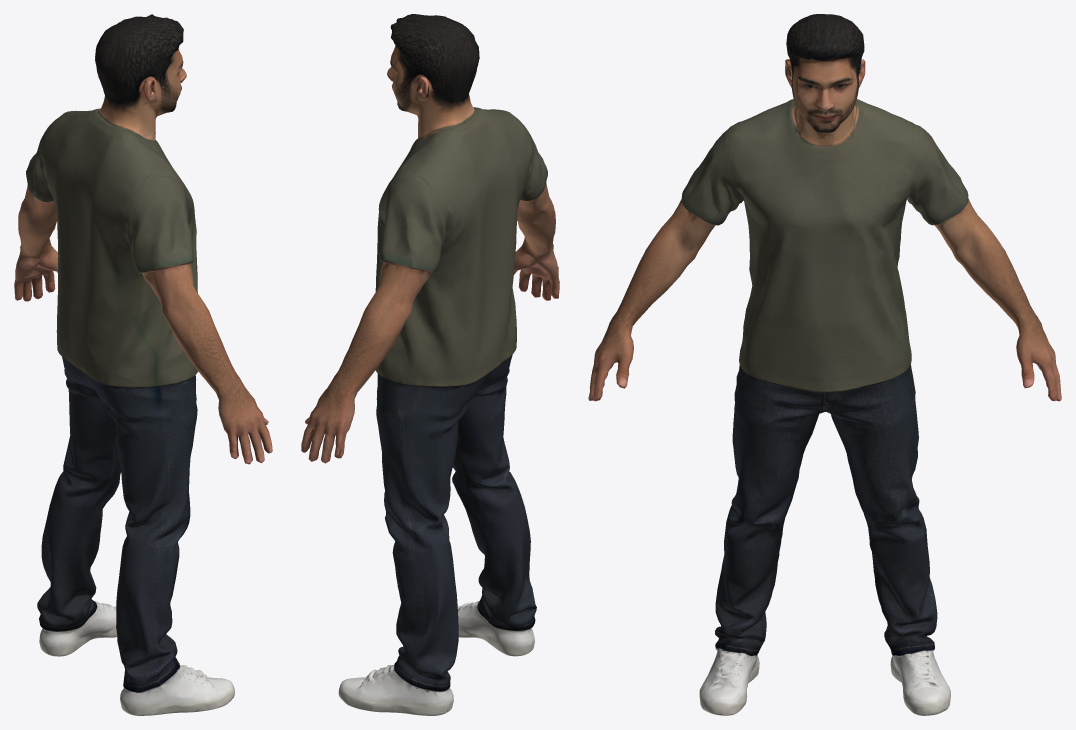
The model's file is pedestre_homem.glb.
The picture shows the model from 3 angles, left to right: view 1: azimuth 30°, elevation 25°; view 2: azimuth 150°, elevation 25°; view 3: azimuth 270°, elevation 25°; orthographic projection. The views are drawn at different scales.
Visible parts, largest first — view 1: tripo_node_e64d5116-4ffe-47a3-a0be-dd20b07ad5db; view 2: tripo_node_e64d5116-4ffe-47a3-a0be-dd20b07ad5db; view 3: tripo_node_e64d5116-4ffe-47a3-a0be-dd20b07ad5db.
Boxes of the visible parts, bbox=[...] form: tripo_node_e64d5116-4ffe-47a3-a0be-dd20b07ad5db: bbox=[14, 14, 272, 715]; tripo_node_e64d5116-4ffe-47a3-a0be-dd20b07ad5db: bbox=[301, 14, 559, 715]; tripo_node_e64d5116-4ffe-47a3-a0be-dd20b07ad5db: bbox=[588, 14, 1061, 715].
Size of the model in its own units: 0.3289 by 1.8 by 1.14.
Materials: 1 (1 with a texture image).
